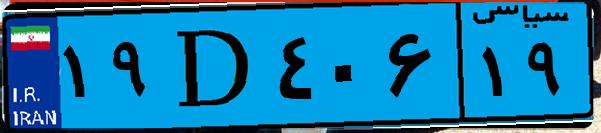0: (330, 28, 385, 110)
1: (57, 26, 110, 100), (475, 38, 525, 113)
4: (270, 28, 330, 110)
6: (385, 28, 445, 110)
9: (525, 38, 570, 115), (110, 28, 158, 98)
D: (158, 12, 270, 120)
